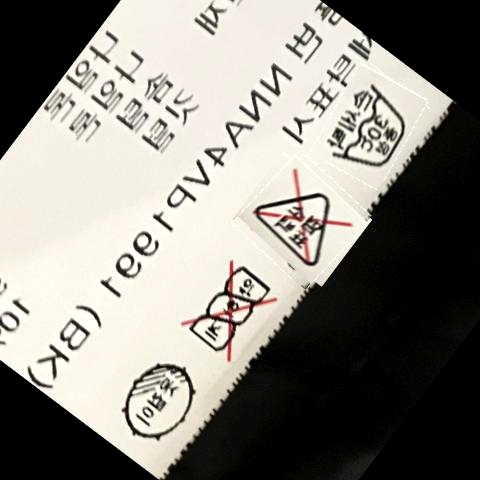DN_wring: (181, 258, 275, 358)
hand_wash: (321, 82, 404, 171)
line_dry_in_shade: (115, 350, 194, 442)
non_chlorine_bleach: (254, 173, 339, 270)
